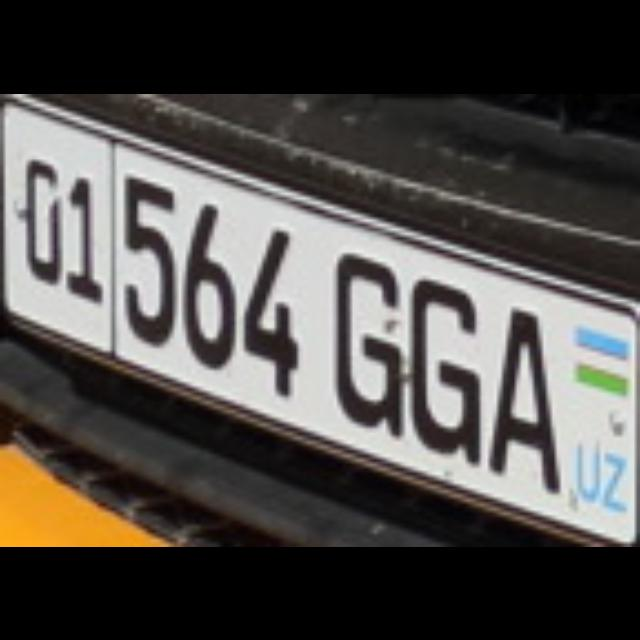0: (18, 155, 54, 279)
1: (58, 169, 94, 293)
4: (236, 222, 288, 386)
5: (115, 168, 168, 342)
6: (178, 200, 230, 360)
A: (484, 302, 556, 488)
G: (404, 270, 476, 458), (328, 244, 396, 431)
